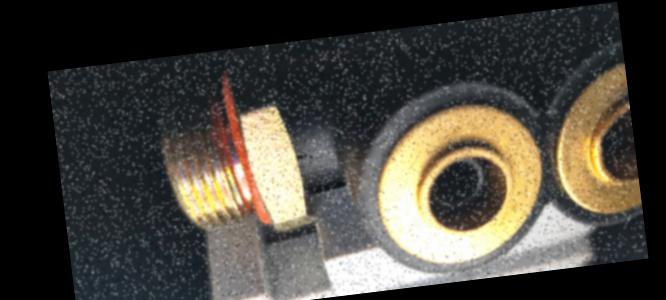craze: (294, 150, 315, 160)
